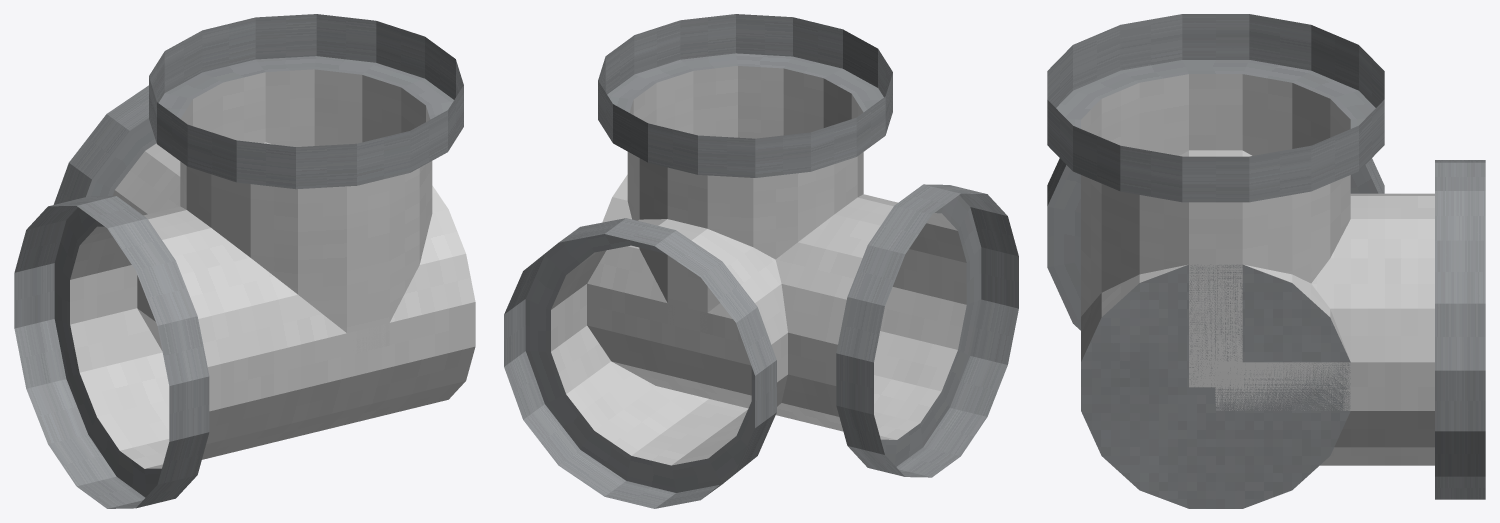
File: connection_22.obj
The picture shows the model from 3 angles, left to right: view 1: azimuth 30°, elevation 25°; view 2: azimuth 150°, elevation 25°; view 3: azimuth 270°, elevation 25°; orthographic projection. The views are drawn at different scales.
Bounding box in the file's own units: 0.8125 × 0.8125 × 0.8125.
